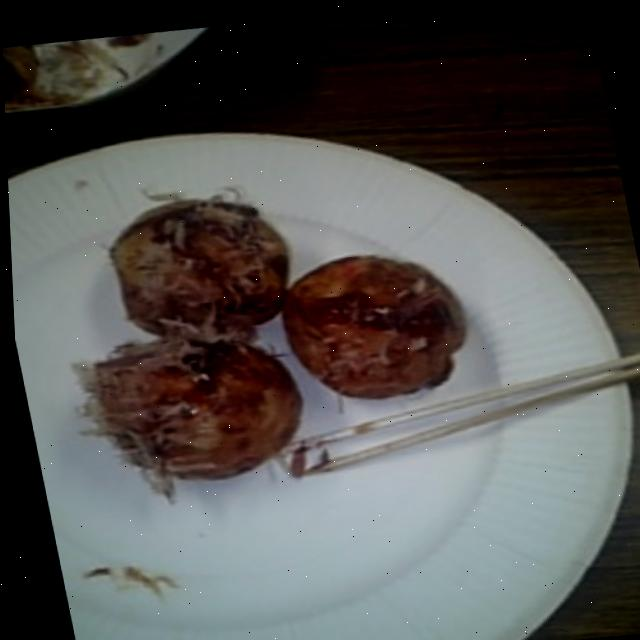炸货点心: (49, 135, 514, 523)
